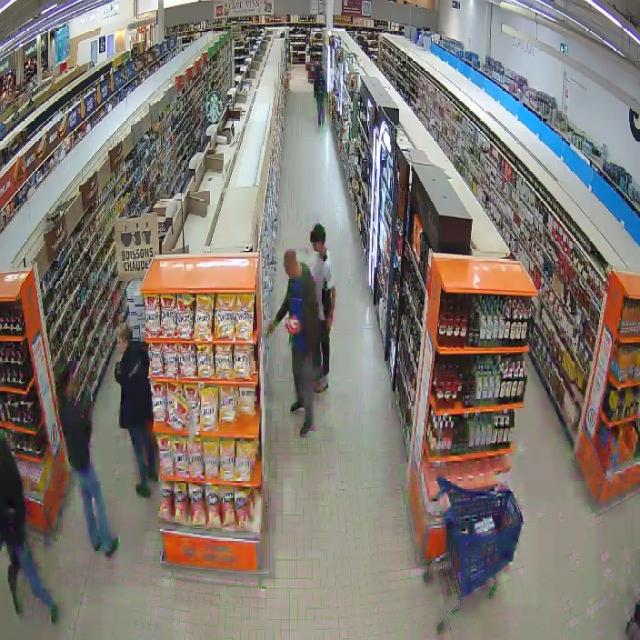article: (284, 314, 302, 336)
hands: (267, 322, 275, 336), (120, 429, 129, 441), (326, 317, 332, 333), (115, 362, 121, 375)
